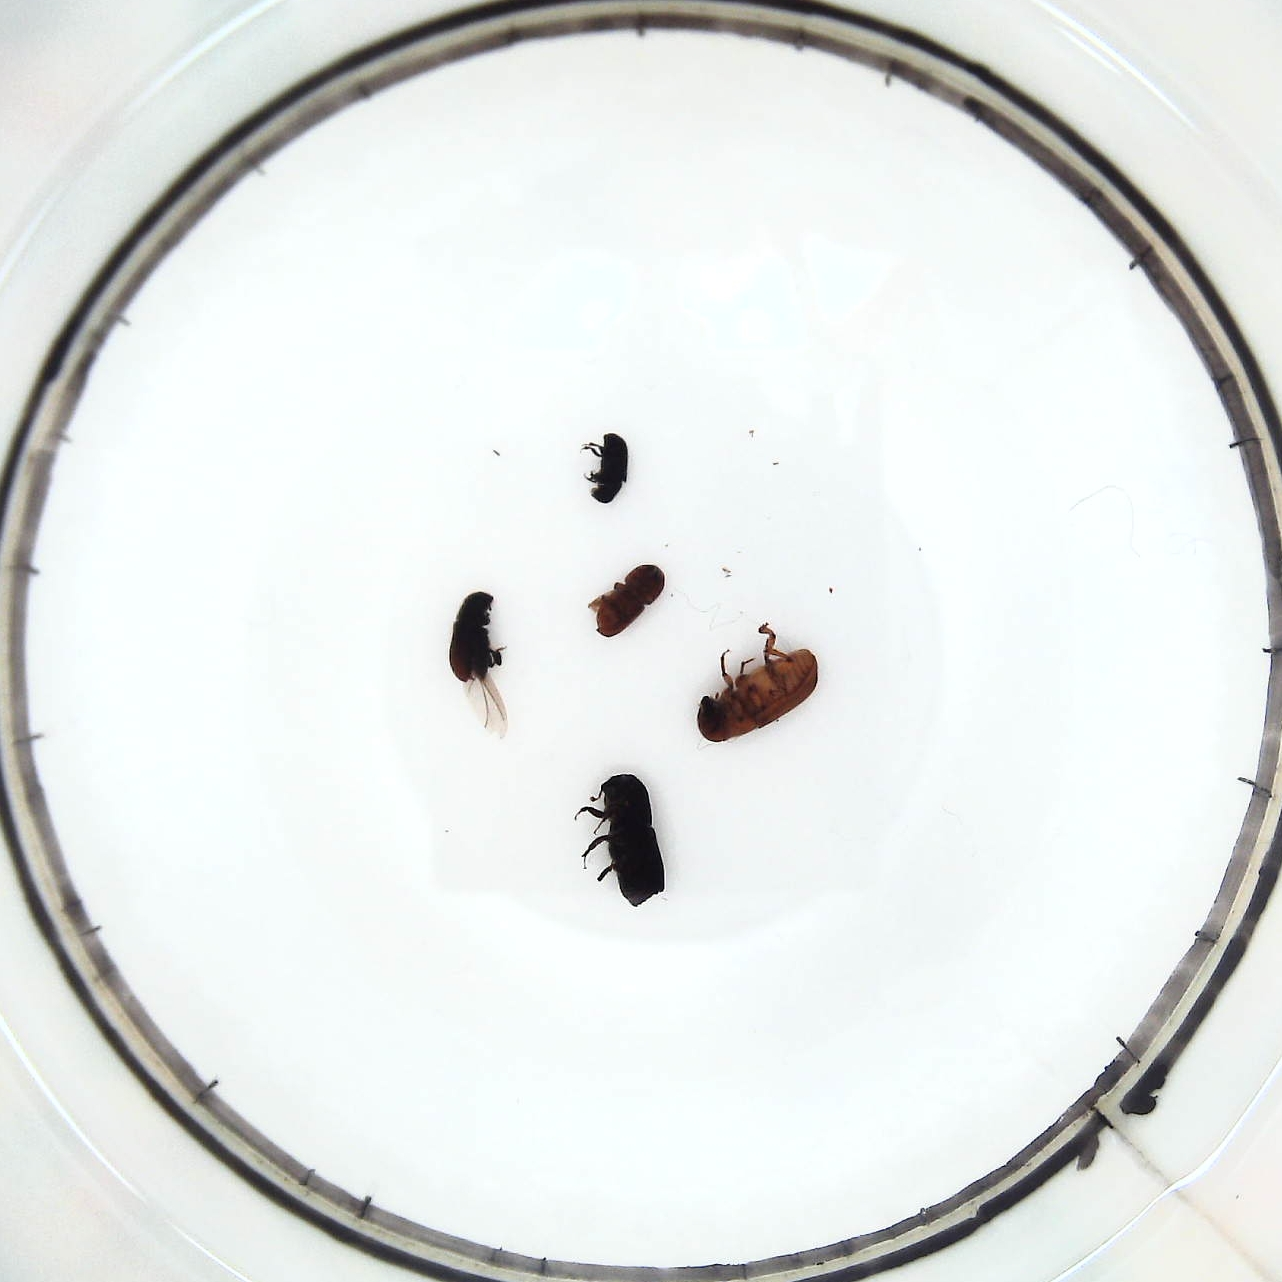Boerner: (576, 770, 666, 912)
Leconte: (695, 626, 826, 745)
armandi: (446, 591, 510, 726)
coleoptera: (581, 429, 634, 512)
linnaeus: (591, 561, 666, 645)
